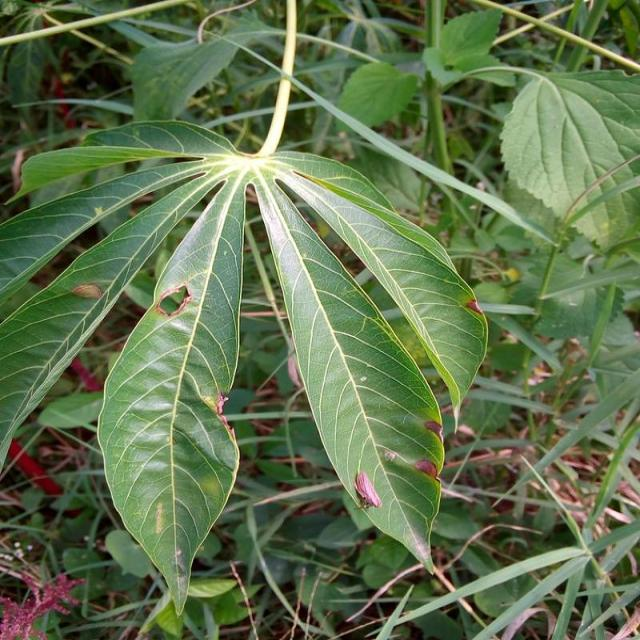cassava leaf: (250, 160, 446, 576), (96, 166, 246, 616), (498, 67, 640, 255)
